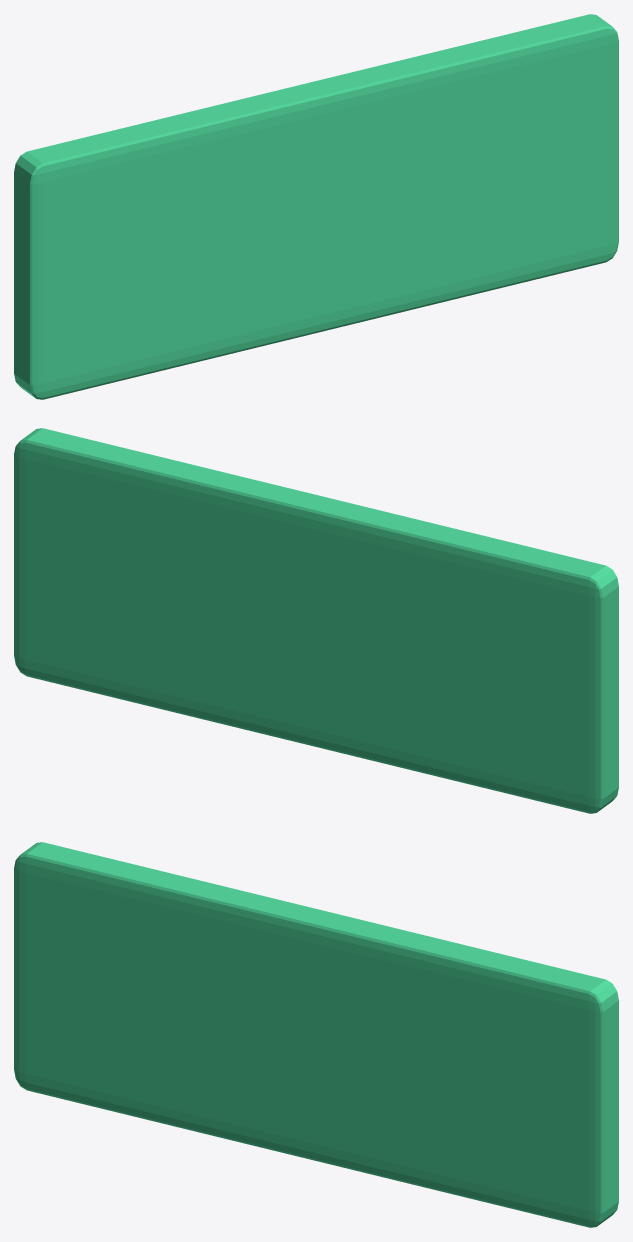
The model's file is 031_Shadow_TimerTab_1.fbx.
3 renders of one model, top to bottom at view 1: azimuth 30°, elevation 25°; view 2: azimuth 150°, elevation 25°; view 3: azimuth 330°, elevation 25°, orthographic.
Parts seen in each view (by area): view 1: Cube.022; view 2: Cube.022; view 3: Cube.022.
Part boxes in pixels (x1=…): Cube.022: x1=14, y1=14, x2=618, y2=399; Cube.022: x1=14, y1=428, x2=618, y2=813; Cube.022: x1=14, y1=842, x2=618, y2=1227.
Size of the model in its own units: 107 by 41.13 by 5.94.
